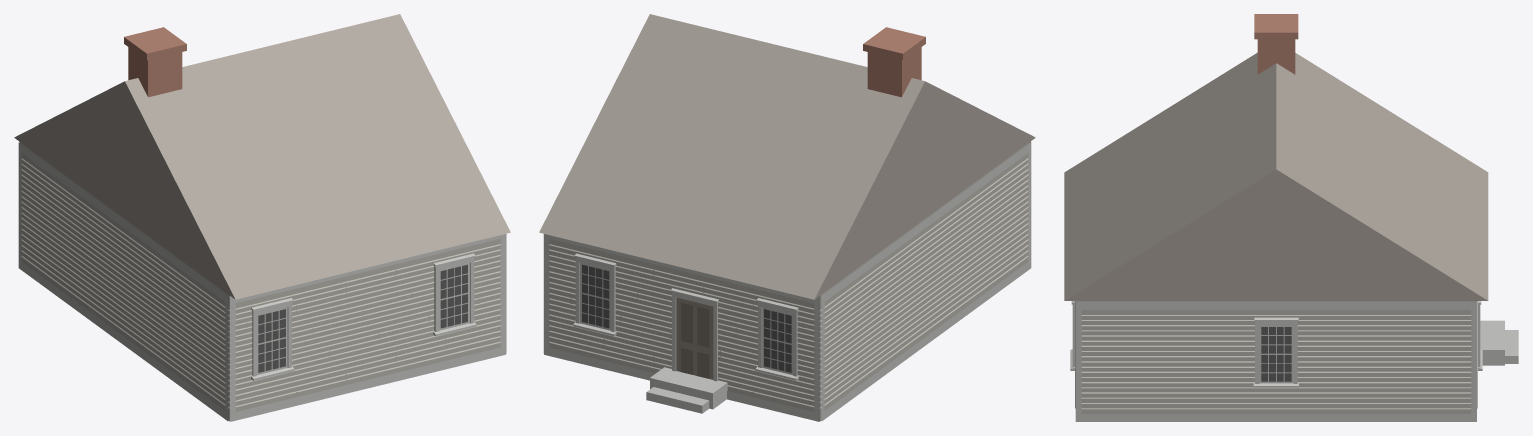
The model's file is recon_1835_north_d5_082__inferred_1835.glb.
3 renders of one model, left to right at view 1: azimuth 30°, elevation 25°; view 2: azimuth 150°, elevation 25°; view 3: azimuth 270°, elevation 25°, orthographic. The views are drawn at different scales.
Visible parts, largest first — view 1: recon_1835_north_d5_082__inferred_1835; view 2: recon_1835_north_d5_082__inferred_1835; view 3: recon_1835_north_d5_082__inferred_1835.
Part boxes in pixels (bbox=[...]): recon_1835_north_d5_082__inferred_1835: bbox=[14, 14, 510, 421]; recon_1835_north_d5_082__inferred_1835: bbox=[539, 14, 1035, 421]; recon_1835_north_d5_082__inferred_1835: bbox=[1064, 14, 1518, 421].
Bounding box in the file's own units: 6.91 × 6.96 × 10.09.
